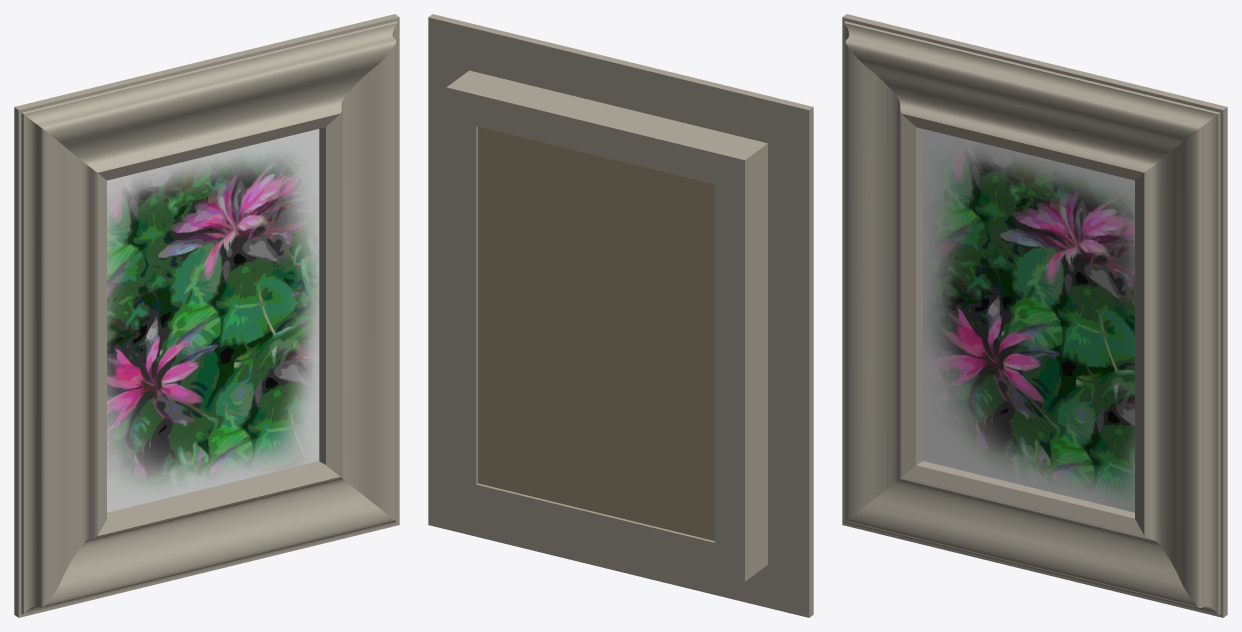
Rendered from 368_額縁小.glb.
3 renders of one model, left to right at view 1: azimuth 30°, elevation 25°; view 2: azimuth 150°, elevation 25°; view 3: azimuth 330°, elevation 25°, orthographic.
Visible parts, largest first — view 1: 368_額縁(小); view 2: 368_額縁(小); view 3: 368_額縁(小).
Boxes of the visible parts, <box> form: 368_額縁(小): <box>14,14,399,617</box>; 368_額縁(小): <box>428,14,813,617</box>; 368_額縁(小): <box>842,14,1227,617</box>.
Bounding box in the file's own units: 0.2526 × 0.3216 × 0.0445.
Materials: 4 (1 with a texture image).
